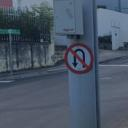NoVirarU: (65, 43, 94, 74)
